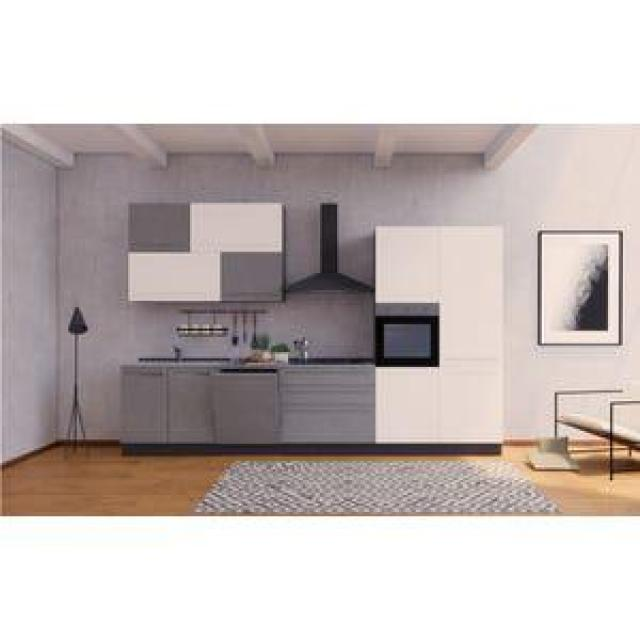dishwasher: (207, 361, 284, 448)
